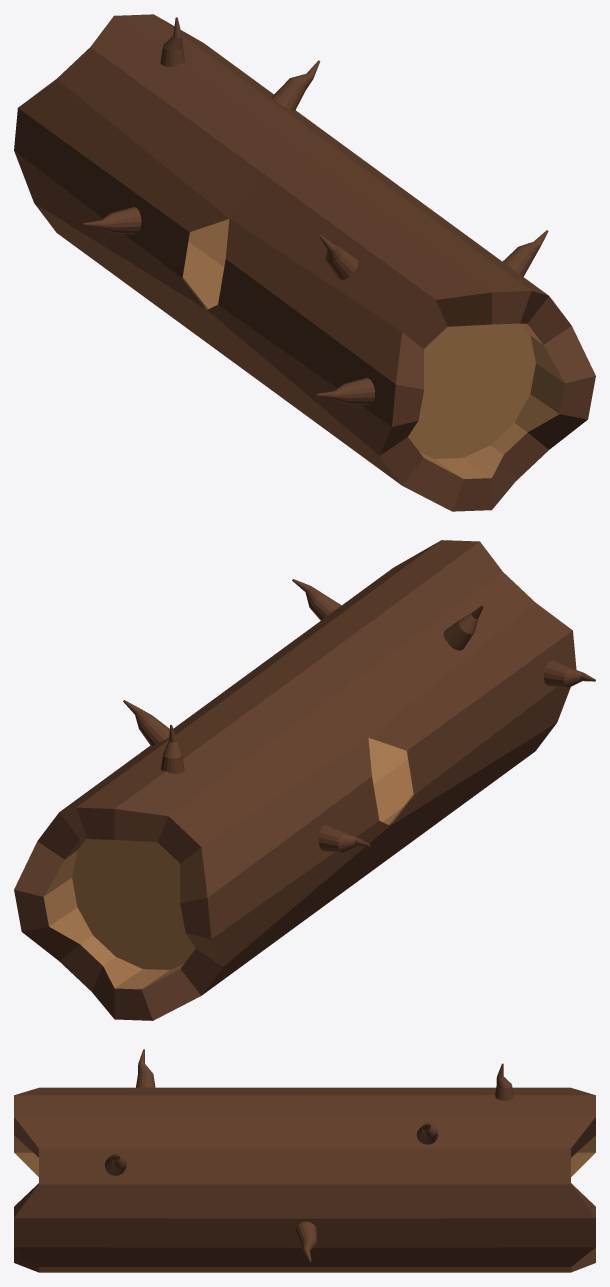
Rendered from PrincipaisAssets_TroncoCaído2.fbx.
The picture shows the model from 3 angles, top to bottom: view 1: azimuth 30°, elevation 25°; view 2: azimuth 150°, elevation 25°; view 3: azimuth 270°, elevation 25°; orthographic projection. The views are drawn at different scales.
Visible parts, largest first — view 1: Cenário_Cemitério_Tronco2; view 2: Cenário_Cemitério_Tronco2; view 3: Cenário_Cemitério_Tronco2.
Boxes of the visible parts, x1=… form: Cenário_Cemitério_Tronco2: x1=14, y1=14, x2=595, y2=511; Cenário_Cemitério_Tronco2: x1=14, y1=540, x2=595, y2=1020; Cenário_Cemitério_Tronco2: x1=14, y1=1049, x2=595, y2=1272.
Bounding box in the file's own units: 383 × 323 × 850.
